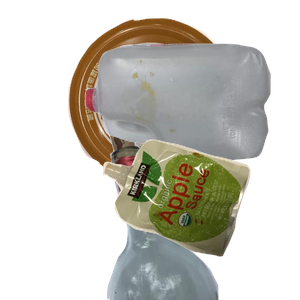glass: (83, 120, 294, 300)
metal: (66, 15, 297, 193)
plastic: (83, 41, 300, 194)
trash: (100, 137, 300, 300)
